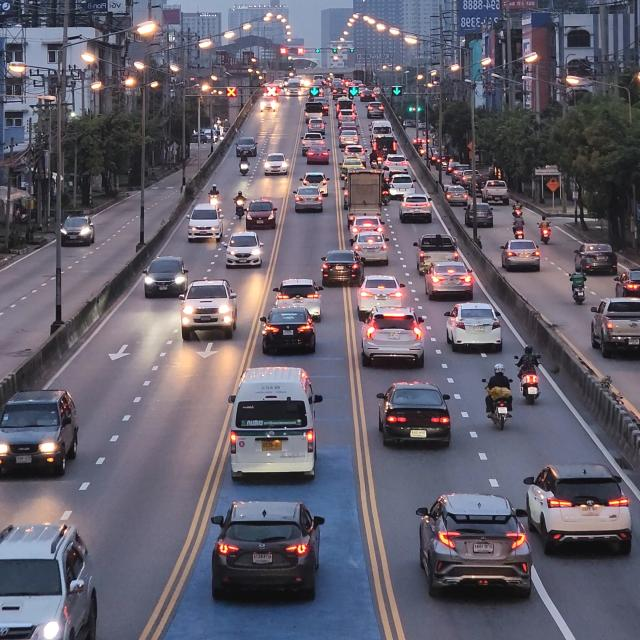Vehicle: (406, 493, 534, 605), (204, 502, 329, 602), (0, 523, 95, 640), (225, 368, 317, 481), (526, 465, 628, 550), (0, 389, 74, 477), (374, 382, 452, 448), (358, 307, 424, 368), (586, 295, 640, 363), (178, 279, 236, 340), (438, 302, 506, 352), (259, 307, 320, 356), (270, 275, 324, 323), (352, 274, 403, 320), (141, 254, 189, 301), (501, 239, 537, 272)
